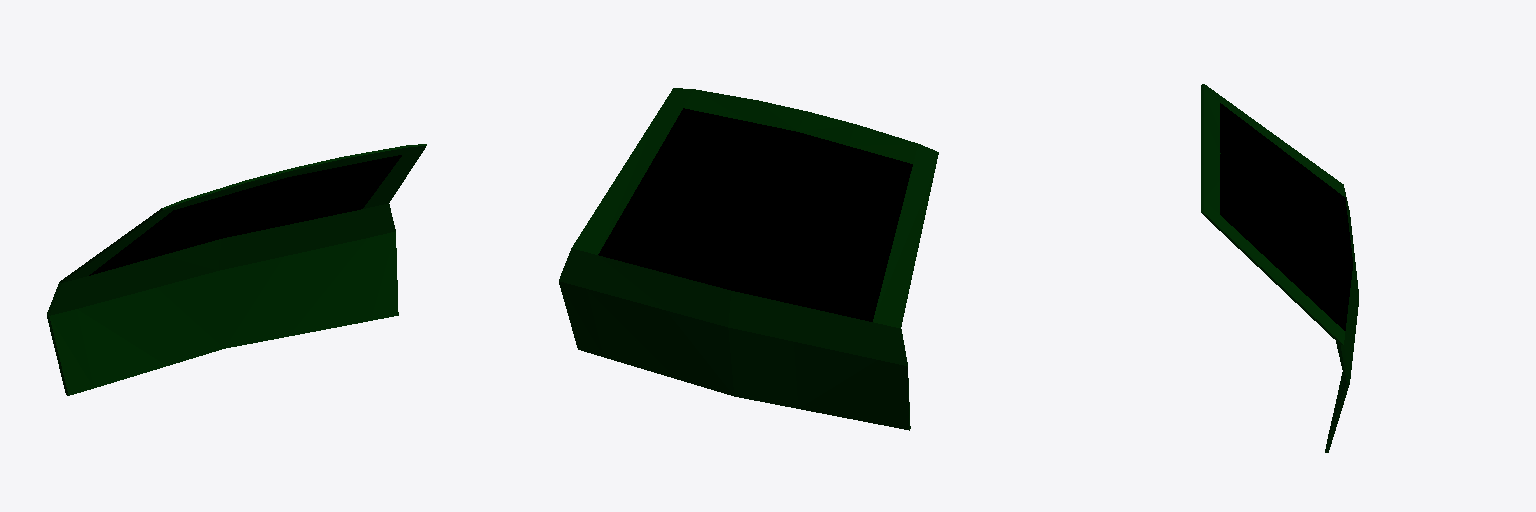
File: cricket_boot.obj
The picture shows the model from 3 angles: view 1: azimuth 30°, elevation 25°; view 2: azimuth 150°, elevation 25°; view 3: azimuth 270°, elevation 25°; orthographic projection.
Visible parts, largest first — view 1: Boot; view 2: Boot; view 3: Boot.
Part boxes in pixels (x1,y1,x2,y2): Boot: (47, 144, 426, 395); Boot: (559, 88, 938, 430); Boot: (1201, 84, 1358, 452).
Size of the model in its own units: 1.37 by 0.8725 by 0.5404.